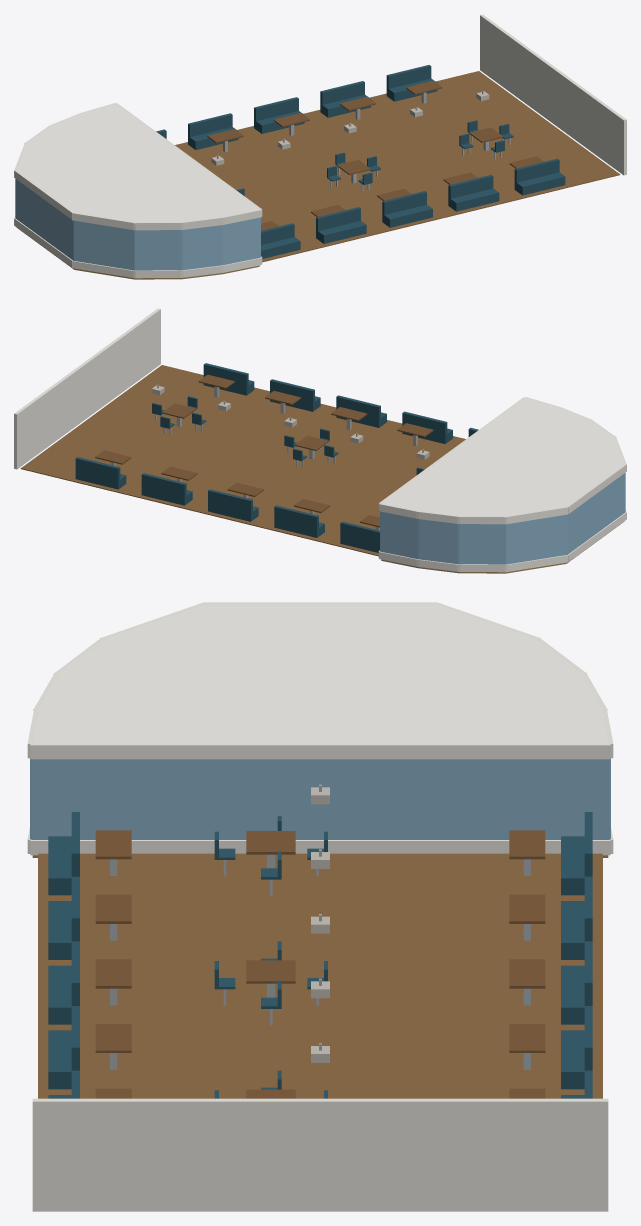
Rendered from room_restaurant.glb.
3 views of the same model, one above another, from view 1: azimuth 30°, elevation 25°; view 2: azimuth 150°, elevation 25°; view 3: azimuth 270°, elevation 25° (orthographic). The views are drawn at different scales.
Visible parts, largest first — view 1: room_restaurant (×9); view 2: room_restaurant (×9); view 3: room_restaurant (×8).
Boxes of the visible parts, x1,y1,x2,y2 form: room_restaurant (×9): (14,14,626,279); room_restaurant (×9): (14,308,626,573); room_restaurant (×8): (27,602,613,1211).
Bounding box in the file's own units: 26.28 × 2.82 × 13.03.
